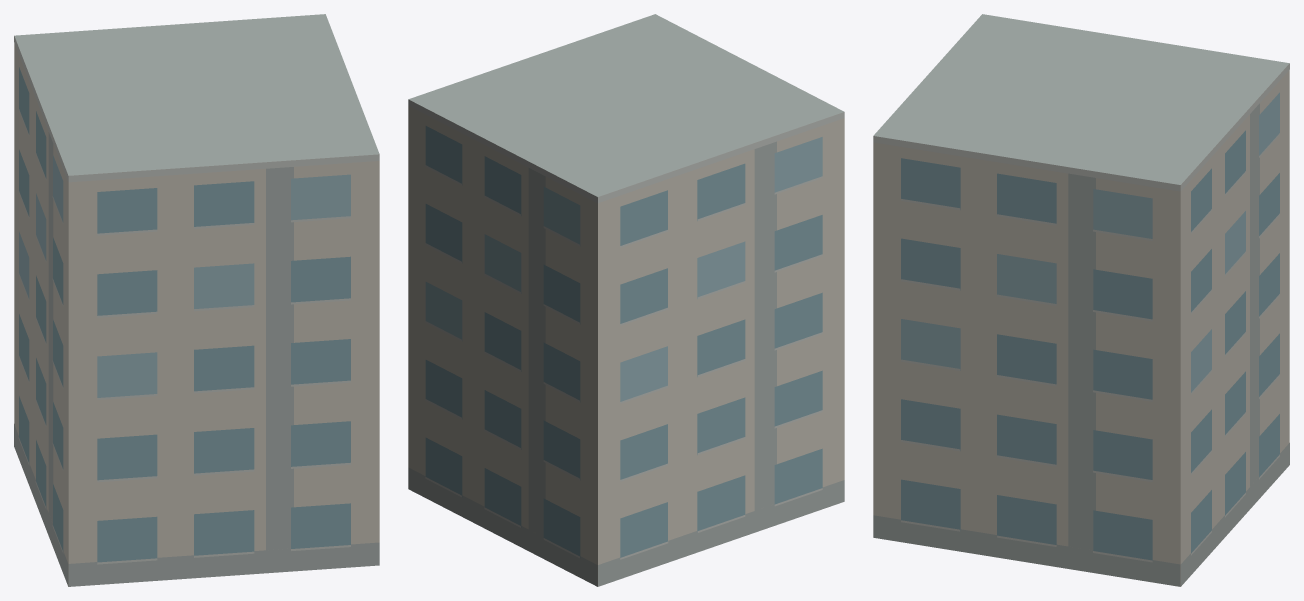
File: residential-66d63916-225e-4190-bd51-6008f1dc4d37.glb
3 views of the same model, side by side, from view 1: azimuth 30°, elevation 25°; view 2: azimuth 150°, elevation 25°; view 3: azimuth 270°, elevation 25° (orthographic). The views are drawn at different scales.
Visible parts, largest first — view 1: residential-66d63916-225e-4190-bd51-6008f1dc4d37.tmp; view 2: residential-66d63916-225e-4190-bd51-6008f1dc4d37.tmp; view 3: residential-66d63916-225e-4190-bd51-6008f1dc4d37.tmp.
Part boxes in pixels (<box>): residential-66d63916-225e-4190-bd51-6008f1dc4d37.tmp: <box>14,14,379,586</box>; residential-66d63916-225e-4190-bd51-6008f1dc4d37.tmp: <box>408,14,844,586</box>; residential-66d63916-225e-4190-bd51-6008f1dc4d37.tmp: <box>873,14,1289,586</box>.
Size of the model in its own units: 13.94 by 15.25 by 14.34.
